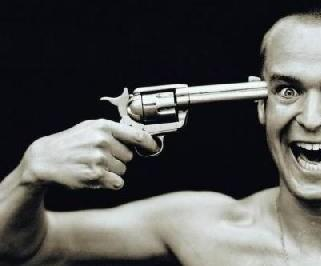Revolver: (76, 70, 276, 157)
